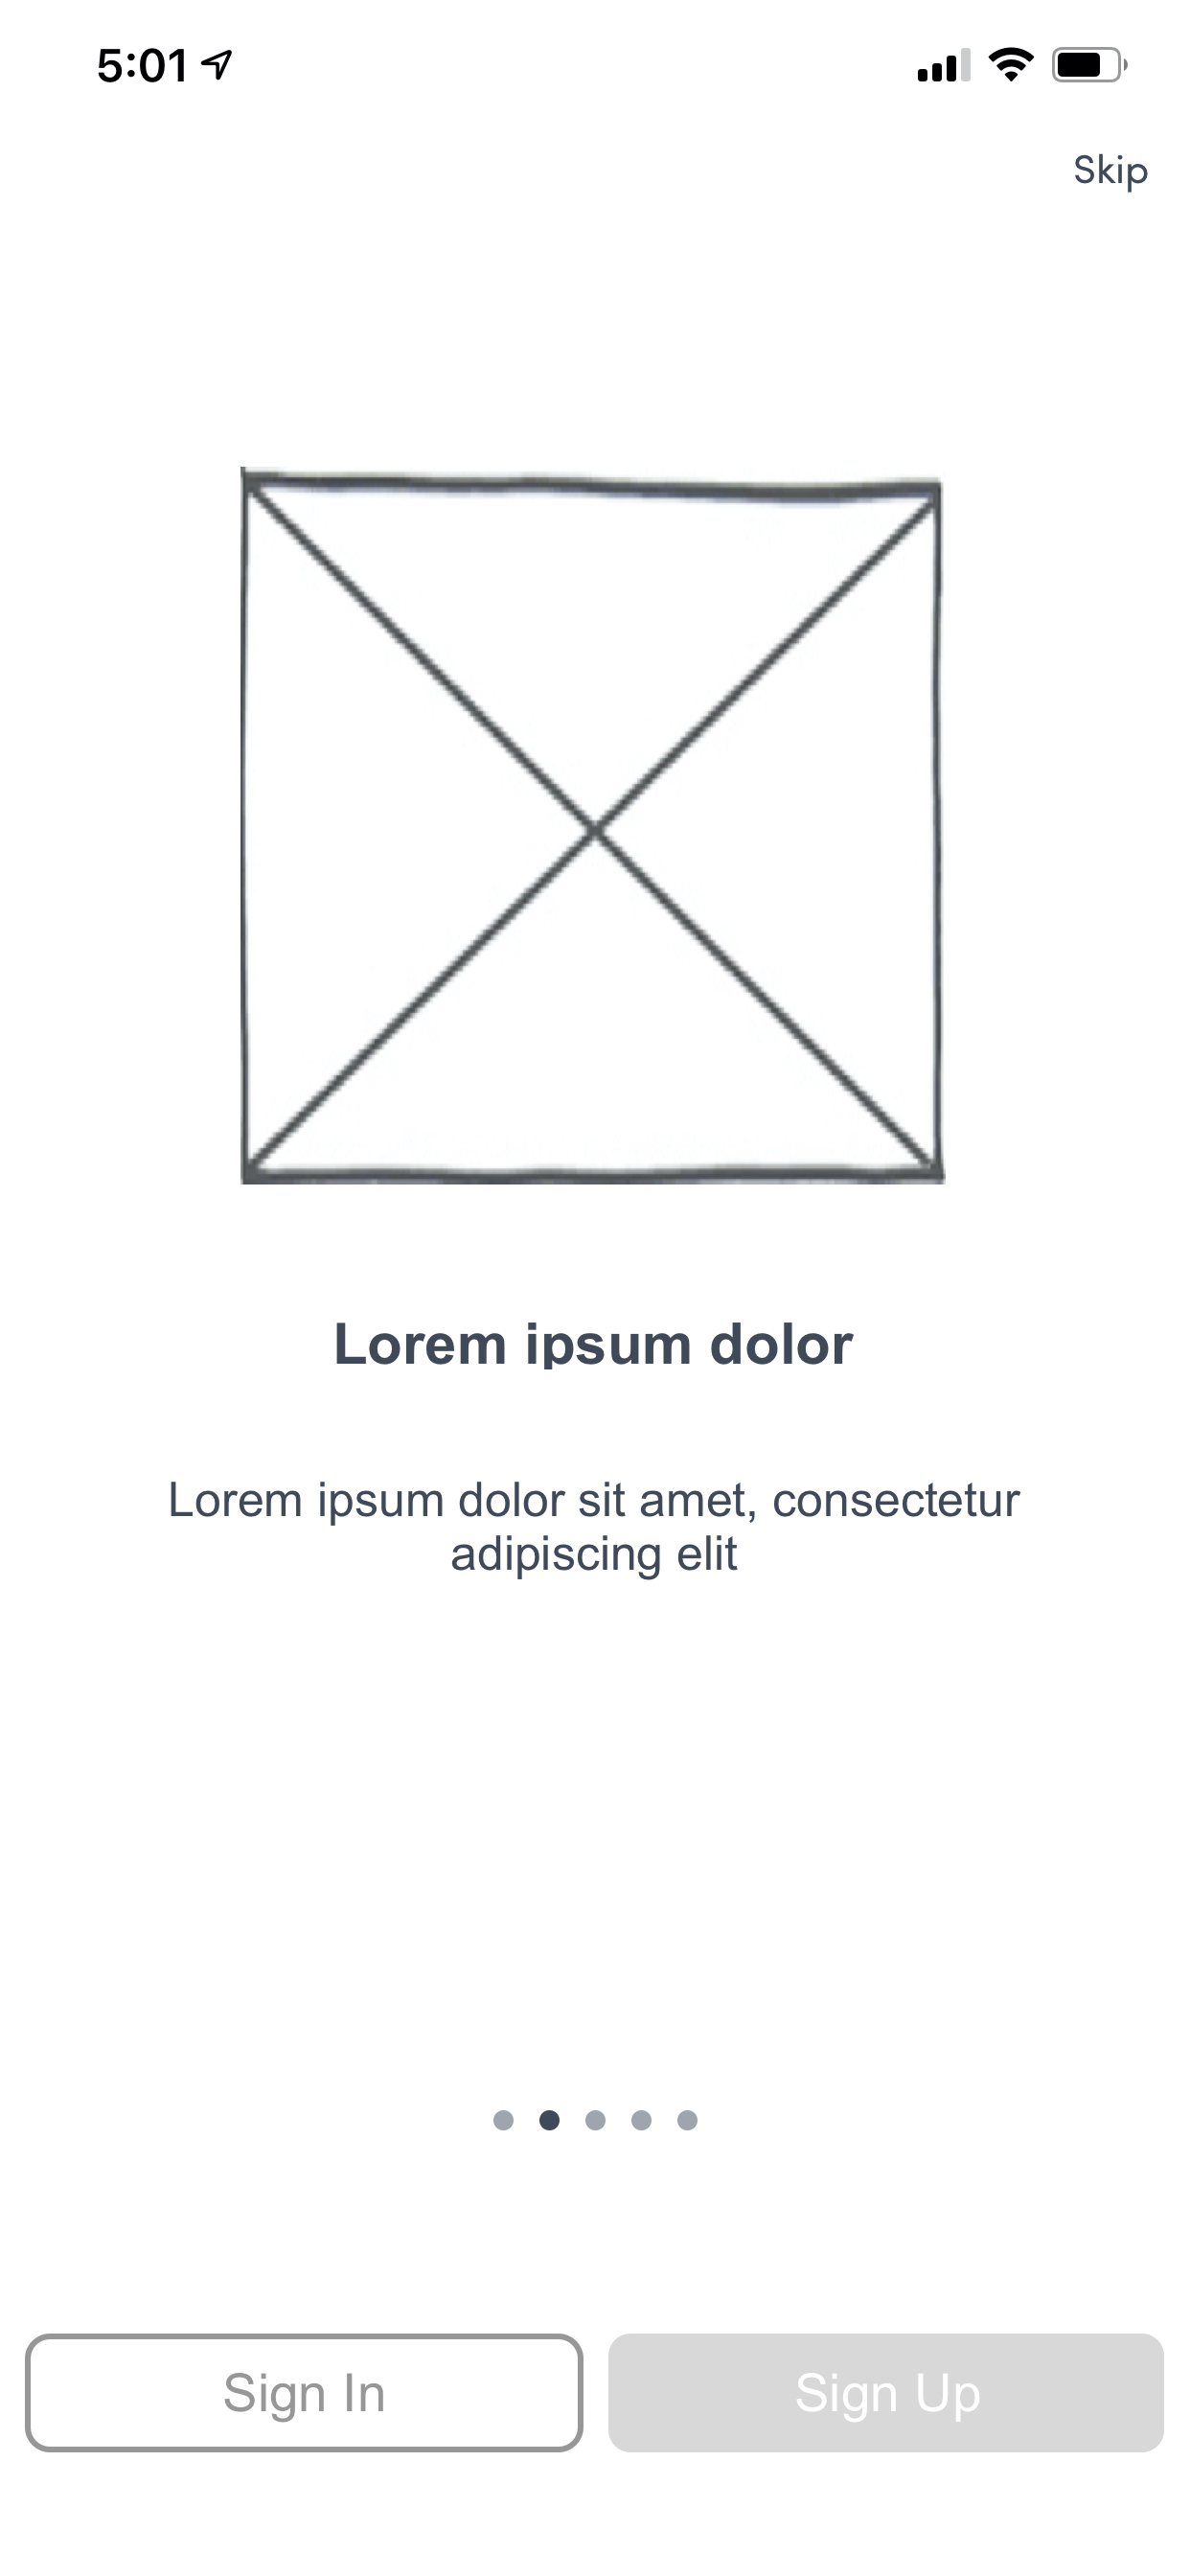Image: (238, 463, 945, 1188)
PageIndicator: (493, 2108, 700, 2132)
Text: (171, 1482, 1021, 1580), (337, 1321, 855, 1370), (1075, 153, 1149, 194)
TextButton: (25, 2331, 585, 2454), (608, 2331, 1165, 2454)
UpperTaskBar: (97, 44, 1129, 85)
